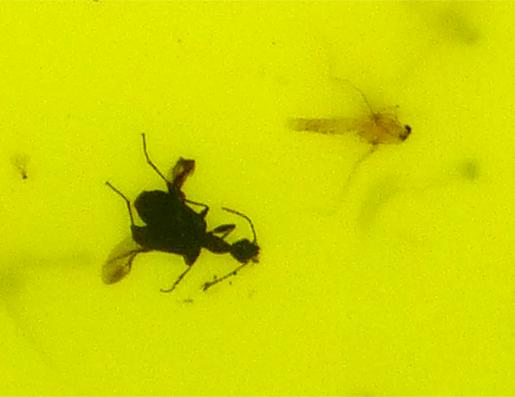Coleoptera: (100, 138, 263, 297)
Ephemeroptera: (299, 100, 415, 152)
